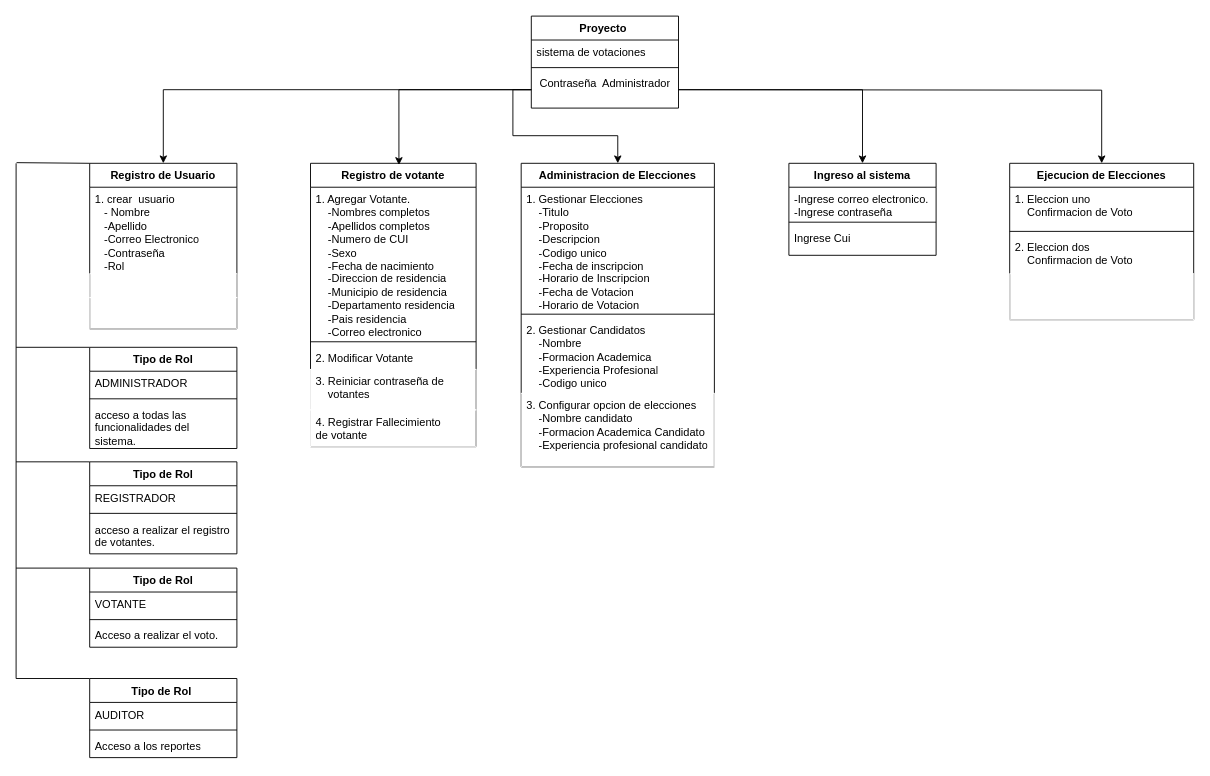
Image size: 1210x776. Some labels were removed from this diagram. The shapes that lost their labels are listed below. From the top down, each one's centre as x and y in pixels, then its label:
the point at 163,285: 2. modificar usuario
the point at 1101,296: 3. eleccion tres Confirmacion de Voto
the point at 163,313: 3. reiniciar contraseña
